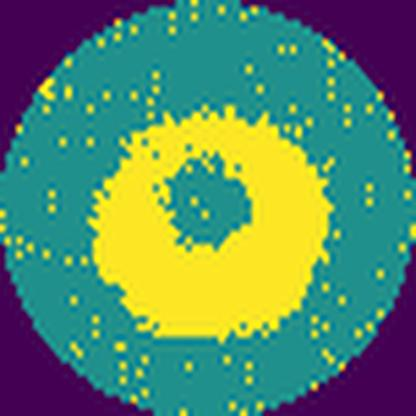Donut: (84, 100, 341, 350)
